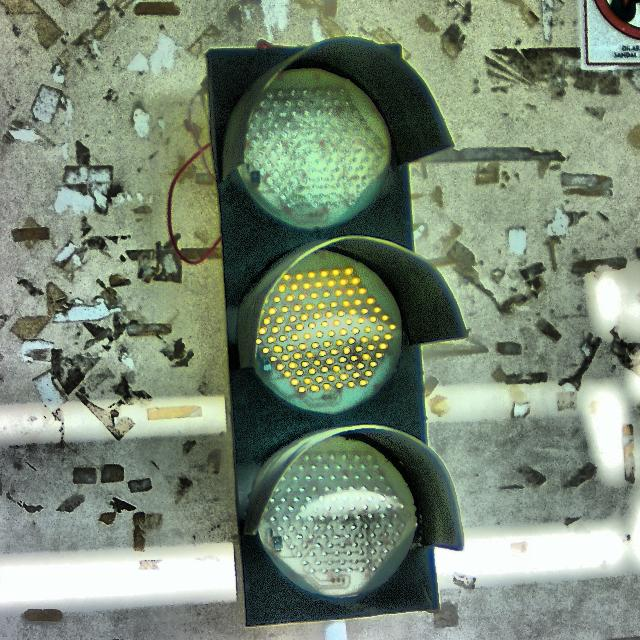yellow: (208, 42, 462, 620)
